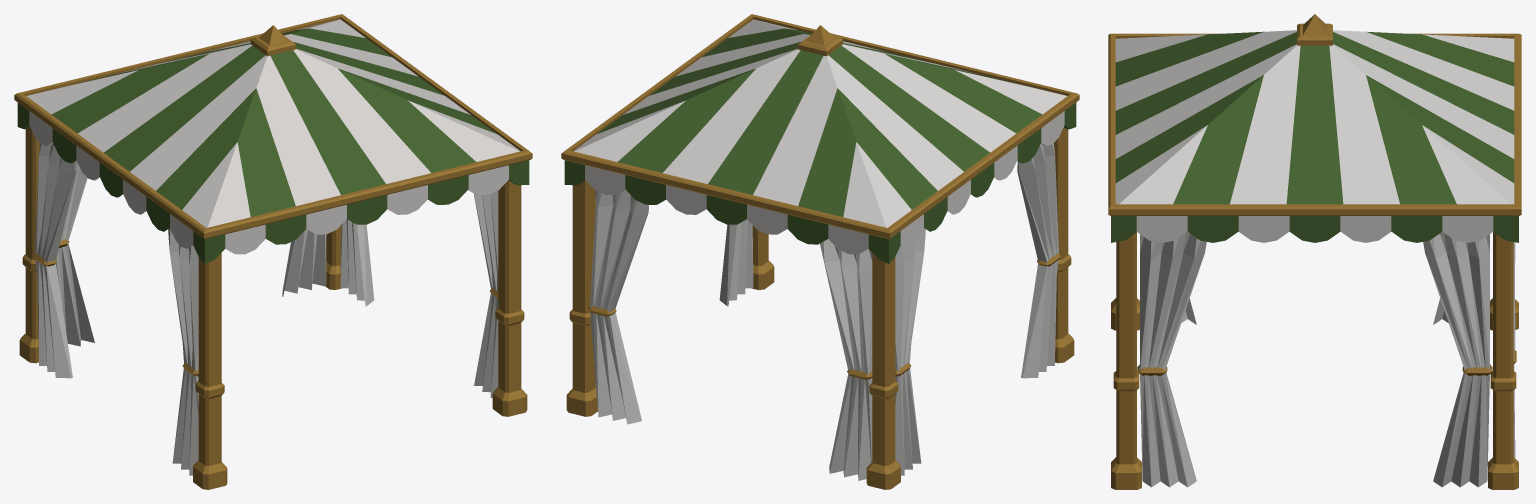
The model's file is poolside-cabana-d603cf.glb.
The picture shows the model from 3 angles, left to right: view 1: azimuth 30°, elevation 25°; view 2: azimuth 150°, elevation 25°; view 3: azimuth 270°, elevation 25°; orthographic projection. The views are drawn at different scales.
Visible parts, largest first — view 1: poolside-cabana-mesh; view 2: poolside-cabana-mesh; view 3: poolside-cabana-mesh.
Boxes of the visible parts, box(x1,y1,x2,y2) form: poolside-cabana-mesh: box(14, 14, 532, 489); poolside-cabana-mesh: box(561, 14, 1079, 489); poolside-cabana-mesh: box(1108, 14, 1521, 489).
Size of the model in its own units: 4 by 4.16 by 4.
